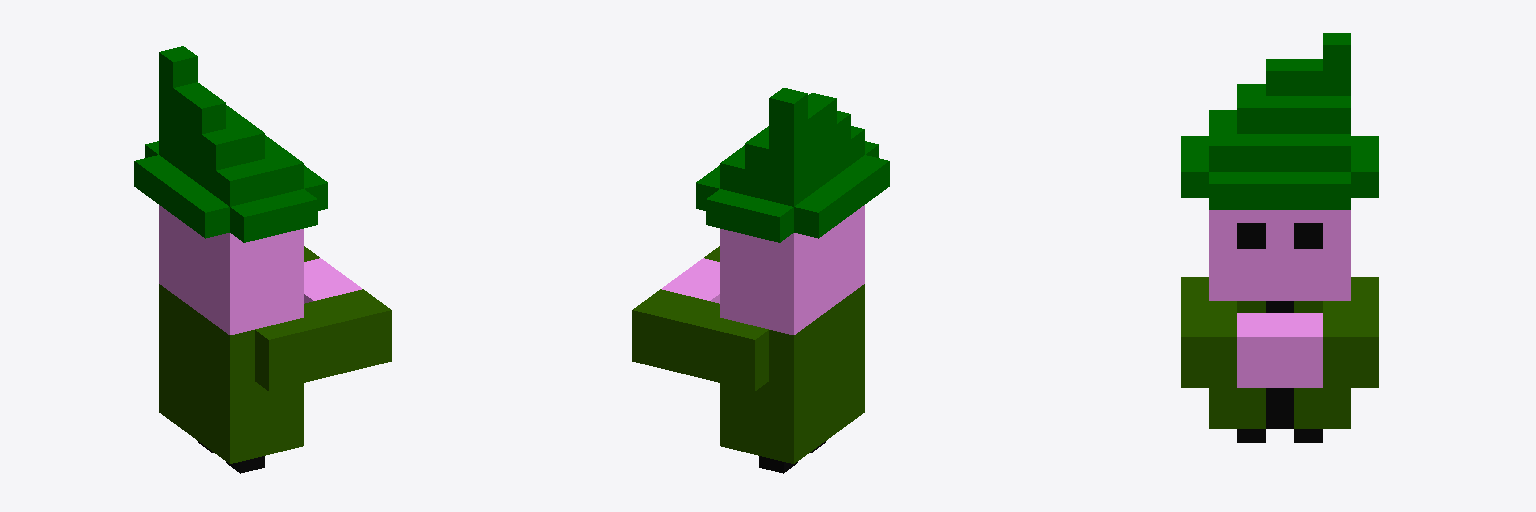
3 renders of one model, left to right at view 1: azimuth 30°, elevation 25°; view 2: azimuth 150°, elevation 25°; view 3: azimuth 270°, elevation 25°, orthographic.
Size of the model in its own units: 7 by 15 by 7.
1 materials, 1 textured.